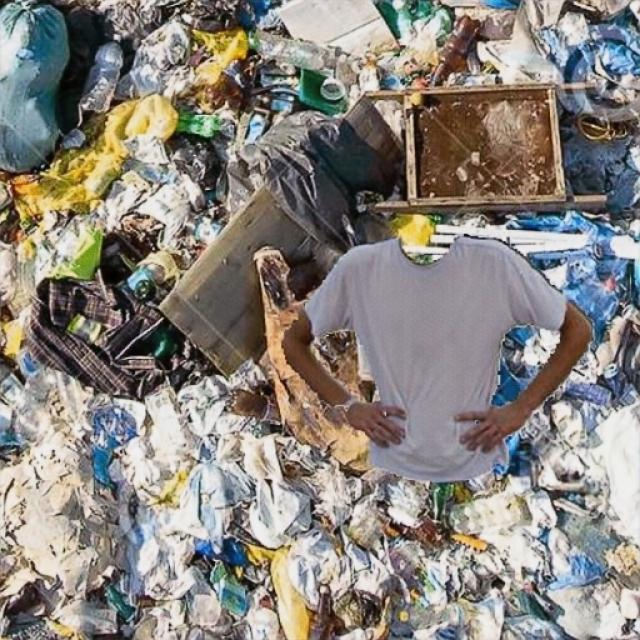Person in Rubble: (282, 234, 592, 482)
